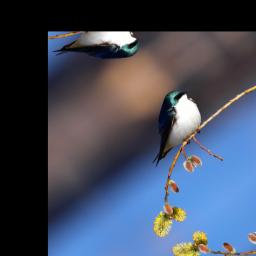Swallow: (120, 82, 218, 168)
